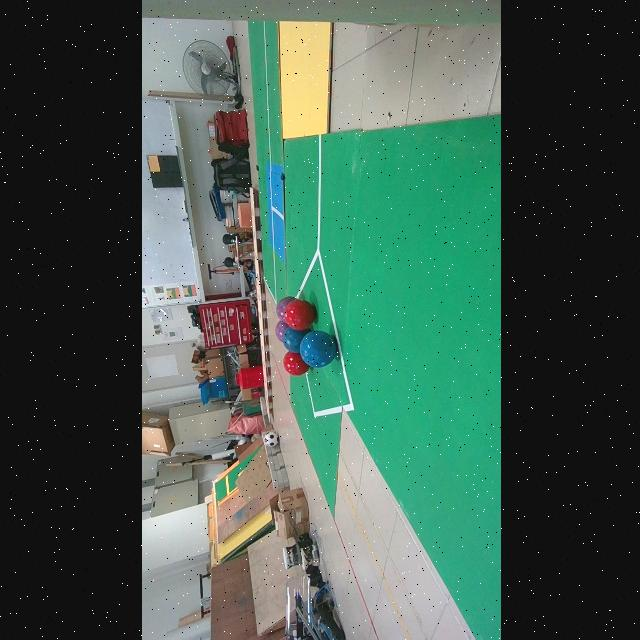B: (299, 331, 335, 366), (281, 327, 309, 354)
P: (275, 297, 293, 320), (274, 321, 286, 342)
R: (282, 299, 314, 330), (282, 351, 308, 375)
